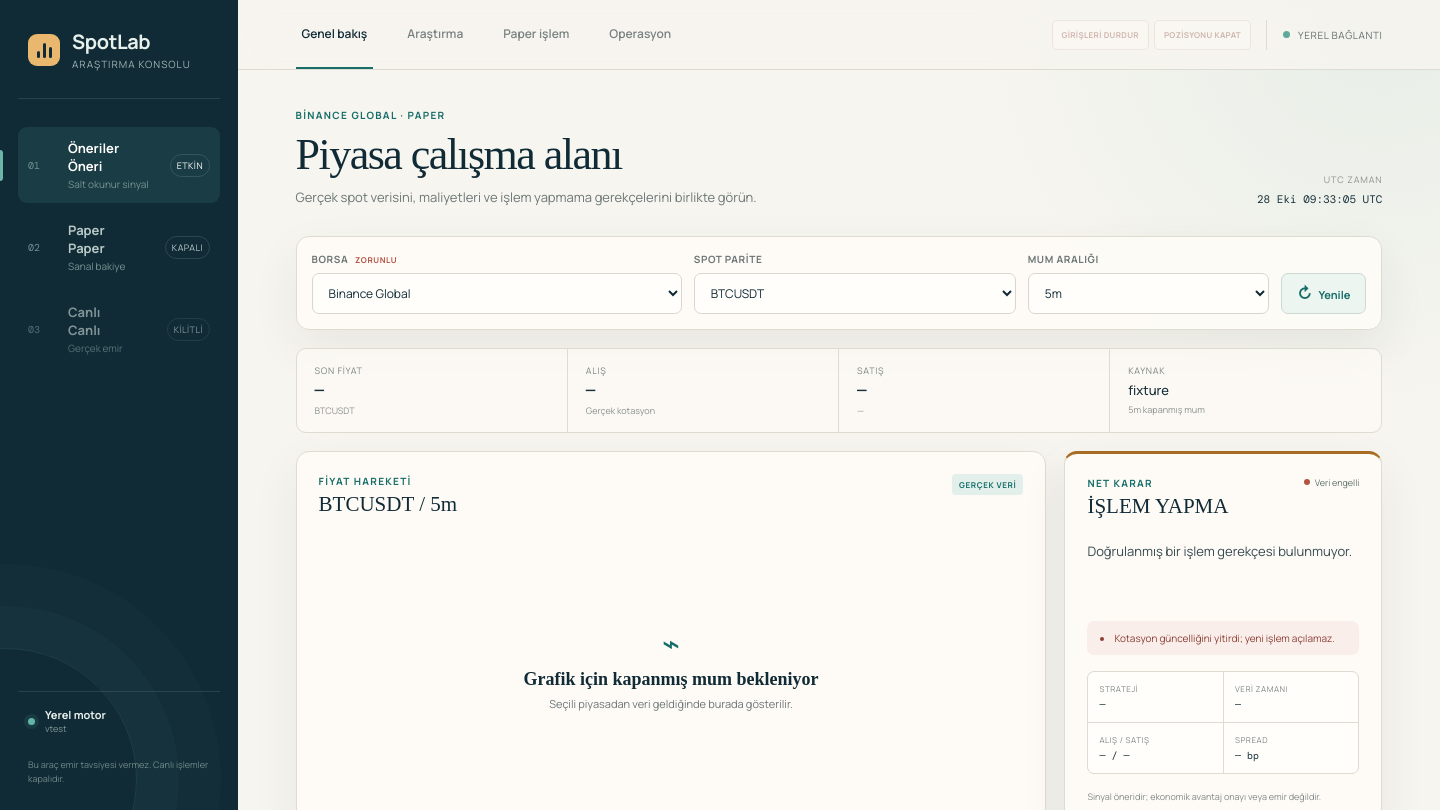
arşiv sayfalamasında gerçek toplamı ve istenen kaydı kullanır
The width and height of the screenshot is (1440, 810).
Expected: the dropdown labelled "Spot parite" shows "BTCUSDT", [694,273,1016,314]
Click the button "Paper işlem": coordinates (536, 34) [497,0,575,69]
(page scrolled)
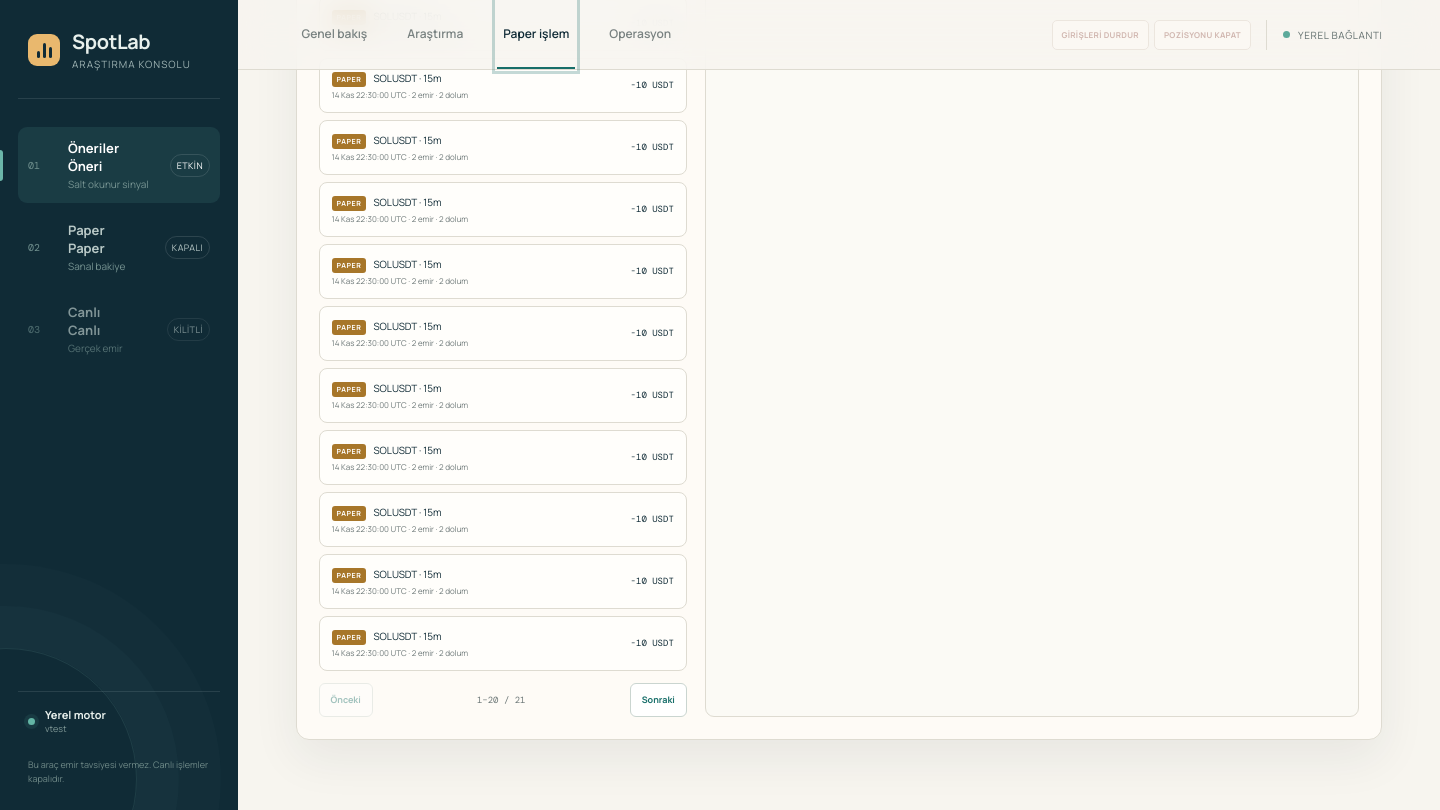
Expected: the text "1–20 / 21" is shown, [477,694,526,706]
Click the button "Sonraki": coordinates (658, 700) [630,683,687,717]
(page scrolled)
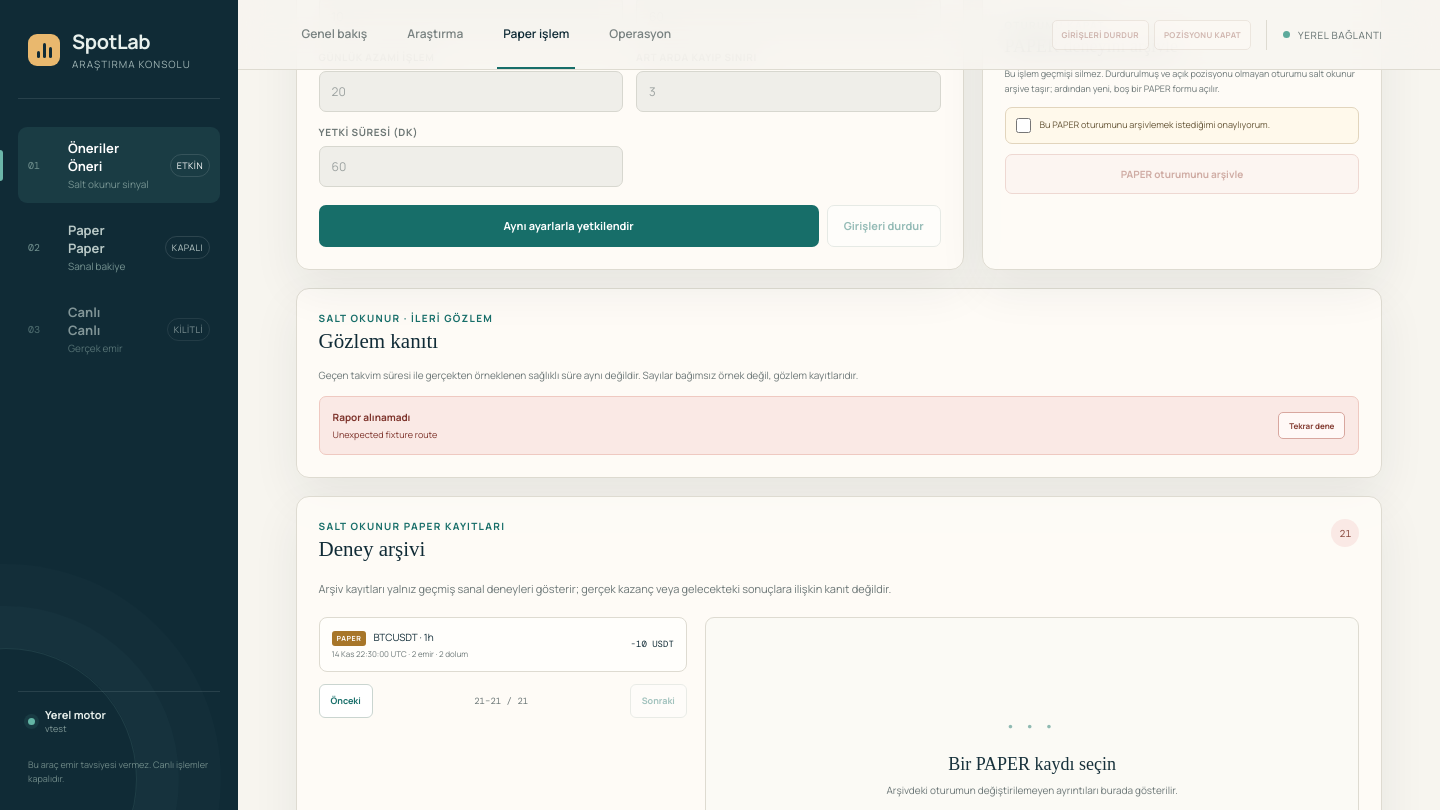
Expected: the text "21–21 / 21" is shown, [474,695,528,707]
Expected: the button "Sonraki" is disabled, [630,684,687,718]
Expected: the button "BTCUSDT" is shown, [319,617,687,672]
Click the button "Önceki": coordinates (346, 701) [319,684,373,718]
(page scrolled)
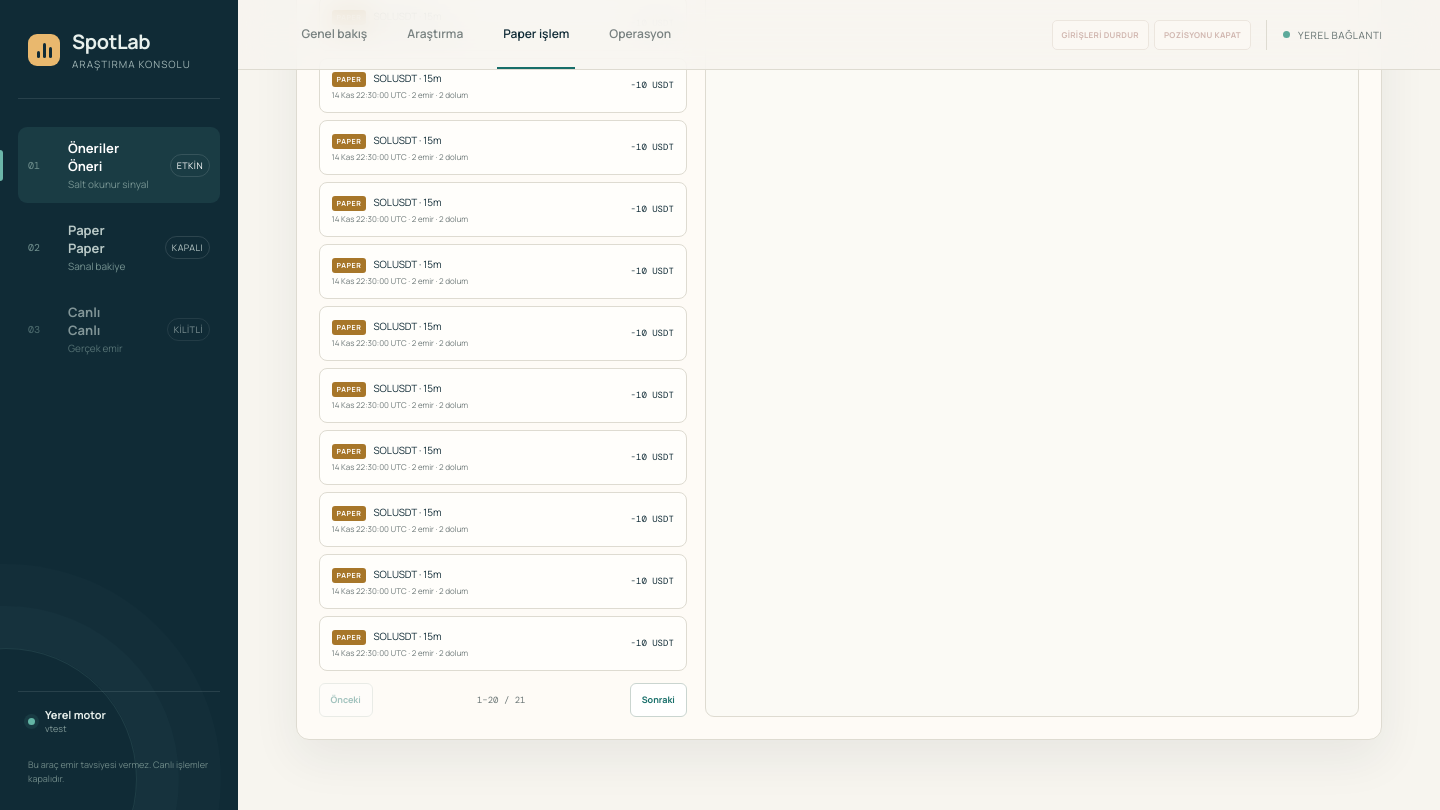
Expected: the text "1–20 / 21" is shown, [477,694,526,706]
